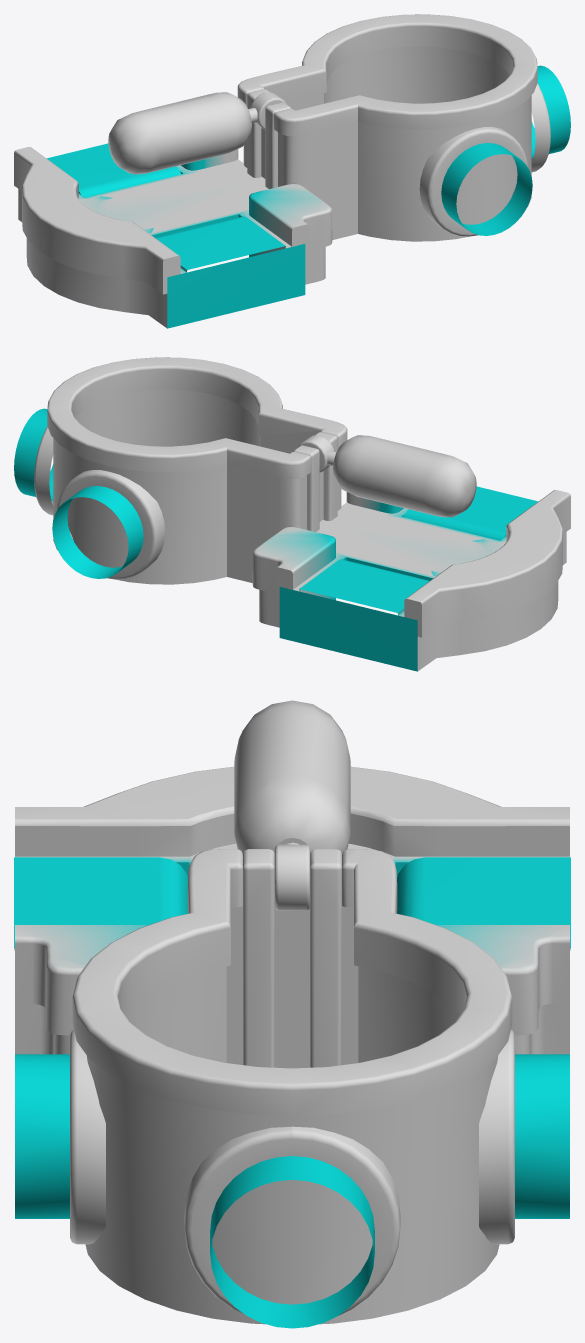
The model's file is PainterDefaultInternalVariant.gltf.
3 renders of one model, top to bottom at view 1: azimuth 30°, elevation 25°; view 2: azimuth 150°, elevation 25°; view 3: azimuth 270°, elevation 25°, orthographic. The views are drawn at different scales.
Parts seen in each view (by area): view 1: Painter_Default_Main_LOD0, Painter_Default_Roll_LOD0, Painter_Default_Hinge_LOD0; view 2: Painter_Default_Main_LOD0, Painter_Default_Roll_LOD0, Painter_Default_Hinge_LOD0; view 3: Painter_Default_Main_LOD0, Painter_Default_Roll_LOD0, Painter_Default_Hinge_LOD0.
Boxes of the visible parts, x1,y1,x2,y2 form: Painter_Default_Main_LOD0: (14,14,570,328); Painter_Default_Roll_LOD0: (108,92,257,174); Painter_Default_Hinge_LOD0: (250,92,286,178); Painter_Default_Main_LOD0: (14,357,570,671); Painter_Default_Roll_LOD0: (327,435,476,517); Painter_Default_Hinge_LOD0: (298,435,334,521); Painter_Default_Main_LOD0: (14,766,570,1328); Painter_Default_Roll_LOD0: (234,700,350,853); Painter_Default_Hinge_LOD0: (274,844,310,1068).
Size of the model in its own units: 1.97 by 0.5695 by 1.
